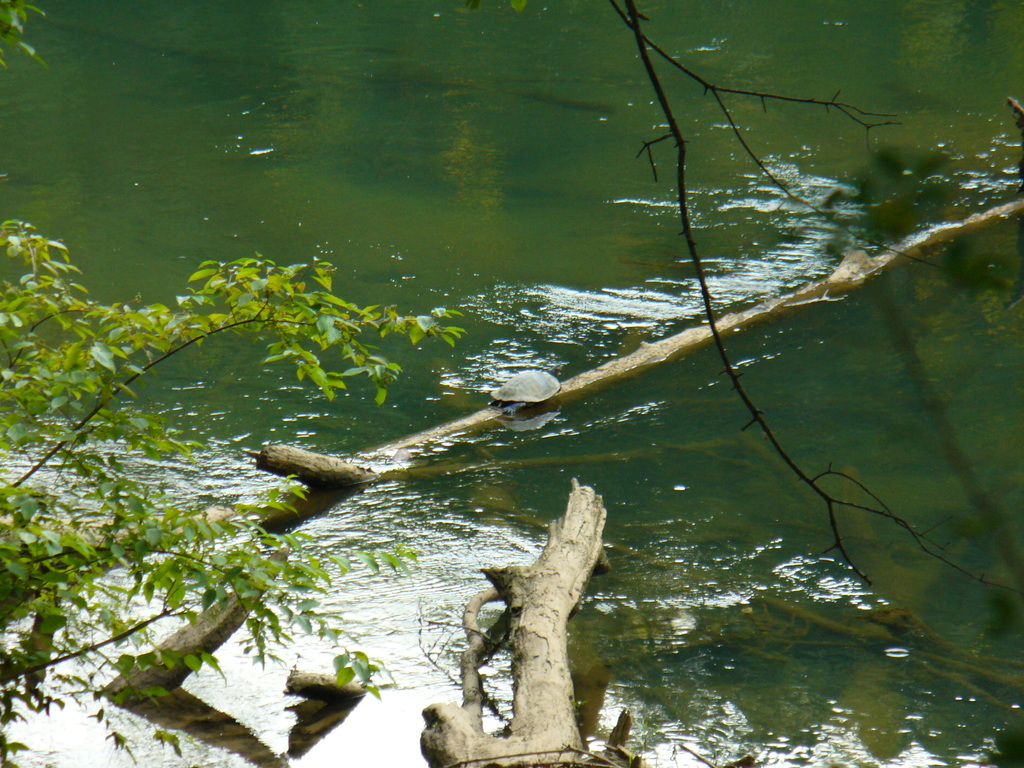Animal: (487, 368, 566, 405)
